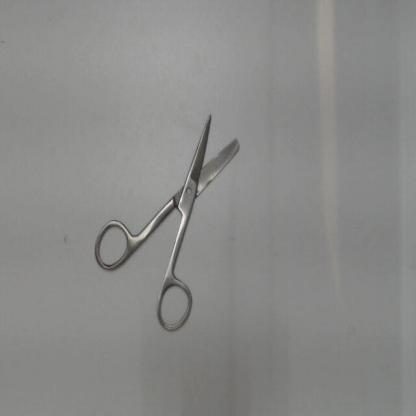Dressing Scissors: (86, 94, 258, 340)
